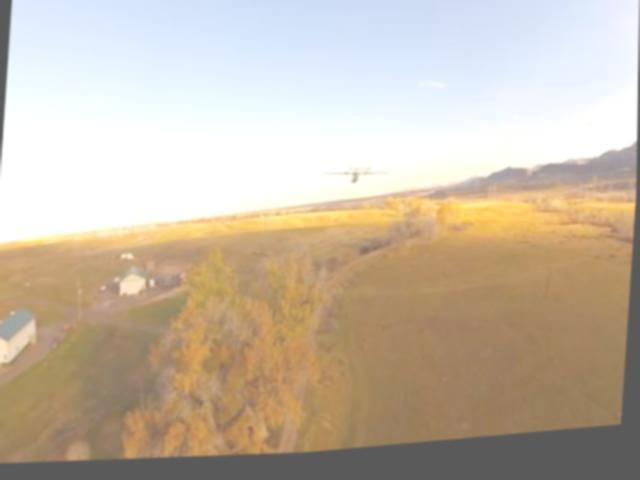uav: (322, 158, 391, 196)
